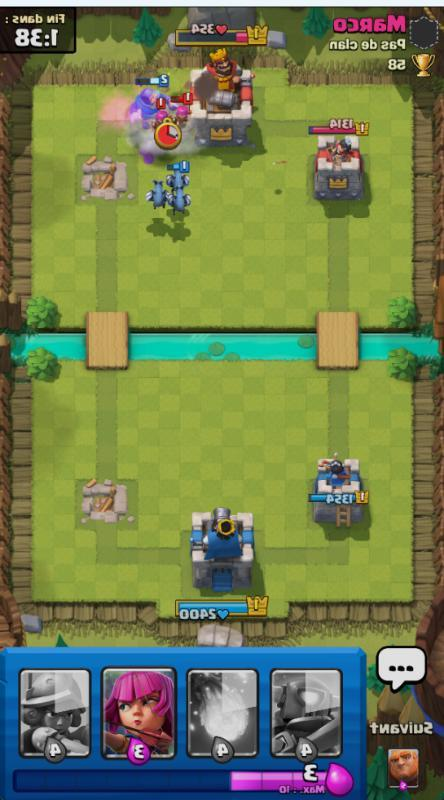enemy_archers: (170, 91, 194, 128)
player_knight: (117, 70, 177, 134)
player_minions: (143, 176, 173, 211), (162, 158, 192, 190), (166, 184, 194, 216)
